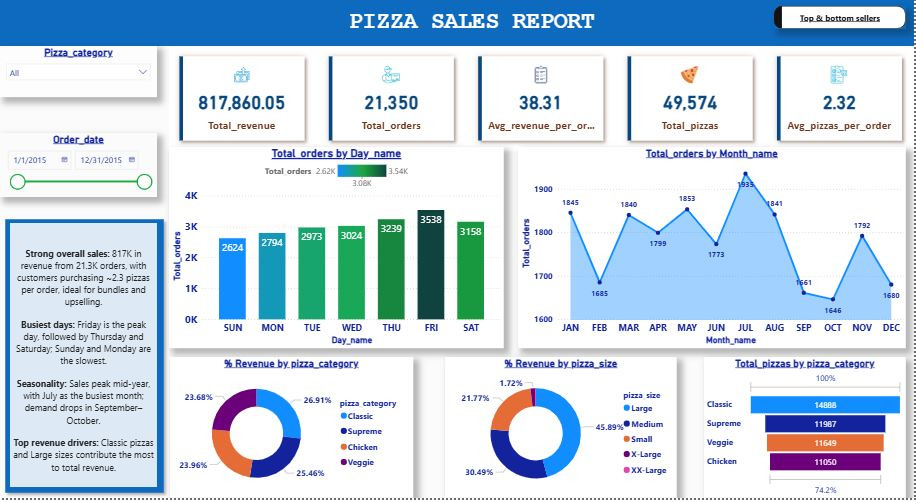

This screenshot's page, from the dashboard's own definition file:
{"tool":"powerbi","page":{"name":"Home","canvas":[1500,820],"ordinal":0},"visuals":[{"type":"cardVisual","fields":{"Data":["pizza_sales.Total_revenue","pizza_sales.Total_orders","pizza_sales.Avg_revenue_per_order","pizza_sales.Total_pizzas","pizza_sales.Avg_pizzas_per_order"]},"box":[277.2,78.7,1223.4,172.2],"z":0},{"type":"shape","box":[0,0,1500,78.7],"z":1000},{"type":"textbox","box":[480.3,13.8,586.6,65],"z":2000},{"type":"clusteredColumnChart","fields":{"Y":["pizza_sales.Total_orders"],"Category":["pizza_sales.Day_name"]},"box":[277.2,244.4,549.4,329.6],"z":3000},{"type":"lineChart","fields":{"Category":["pizza_sales.Month_name"],"Y":["pizza_sales.Total_orders"]},"box":[849.5,244.4,636.3,329.6],"z":4000},{"type":"donutChart","title":"% Revenue by pizza_category","fields":{"Category":["pizza_sales.pizza_category"],"Y":["pizza_sales.Total_revenue"]},"box":[278.8,588.8,398.5,231.2],"z":5000},{"type":"donutChart","title":"% Revenue by pizza_size","fields":{"Category":["pizza_sales.pizza_size"],"Y":["pizza_sales.Total_revenue"]},"box":[729.8,588.8,380.5,231.2],"z":6000},{"type":"funnel","fields":{"Y":["pizza_sales.Total_pizzas"],"Category":["pizza_sales.pizza_category"]},"box":[1154.6,588.8,331.3,231.2],"z":7000},{"type":"shape","box":[0,354.2,277.2,465.8],"z":8000},{"type":"textbox","box":[16.4,369,241.1,433],"z":9000},{"type":"slicer","title":"Pizza_category","fields":{"Values":["pizza_sales.pizza_category"]},"box":[0,78.7,257.5,83.6],"z":10000},{"type":"slicer","title":"Order_date","fields":{"Values":["pizza_sales.order_date"]},"box":[0,221.4,257.5,105],"z":11000},{"type":"pageNavigator","box":[1269.4,13.1,216.5,37.7],"z":11001}]}

Visuals, with their boxes in screenshot pixels (x1, y1, x2, y2), scaled from the page's 1500x820 canvas onto the 916x502 screenshot:
cardVisual - pizza_sales.Total_revenue x pizza_sales.Total_orders: box(169, 48, 915, 154)
shape: box(0, 0, 915, 48)
textbox: box(293, 8, 652, 48)
clusteredColumnChart - pizza_sales.Total_orders x pizza_sales.Day_name: box(169, 150, 505, 351)
lineChart - pizza_sales.Month_name x pizza_sales.Total_orders: box(519, 150, 907, 351)
"% Revenue by pizza_category" donutChart: box(170, 360, 414, 501)
"% Revenue by pizza_size" donutChart: box(446, 360, 678, 501)
funnel - pizza_sales.Total_pizzas x pizza_sales.pizza_category: box(705, 360, 907, 501)
shape: box(0, 217, 169, 501)
textbox: box(10, 226, 157, 491)
"Pizza_category" slicer: box(0, 48, 157, 99)
"Order_date" slicer: box(0, 136, 157, 200)
pageNavigator: box(775, 8, 907, 31)
